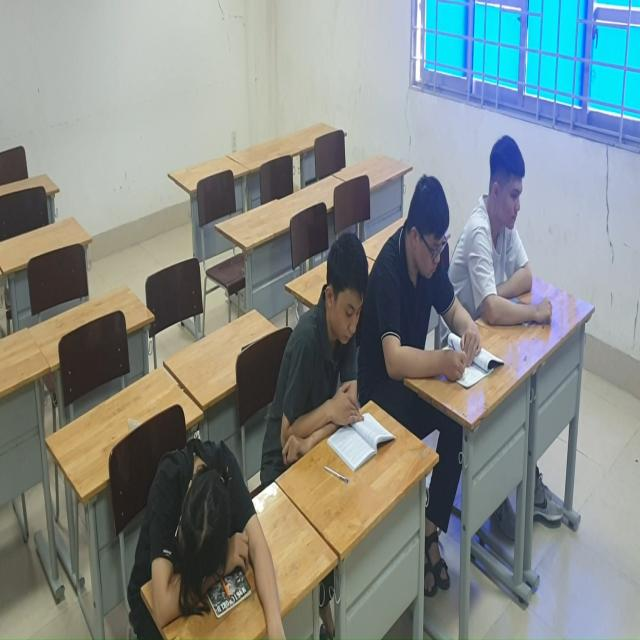read: (276, 231, 400, 478), (372, 178, 507, 393), (474, 126, 563, 359)
sleep: (124, 439, 295, 640)
